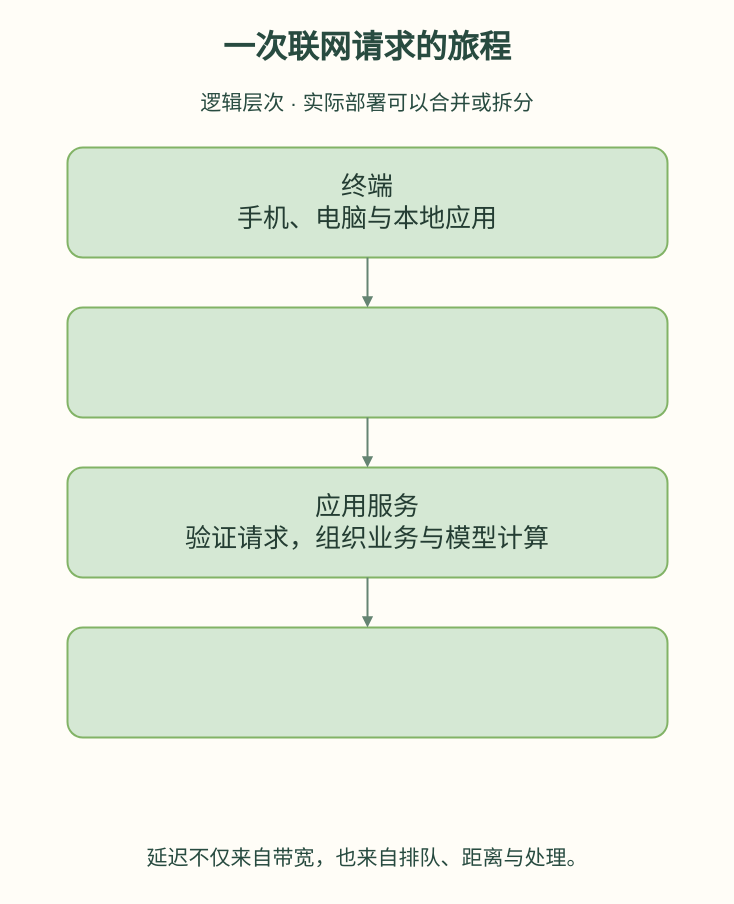
The diagram is 734 pixels wide and 904 high, and some of its shapes have lost their labels. Here are the shapes that lost their labels. From the top down, the centre of each, then its label:
At point (367, 362): "网络与协议 寻址、转发、连接与名称解析".
At point (367, 682): "数据与计算资源 数据库、文件、索引和加速器".
